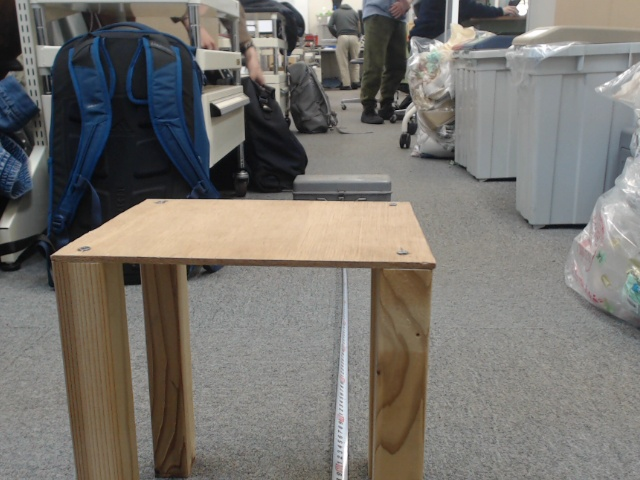desk: (227, 153, 451, 398)
